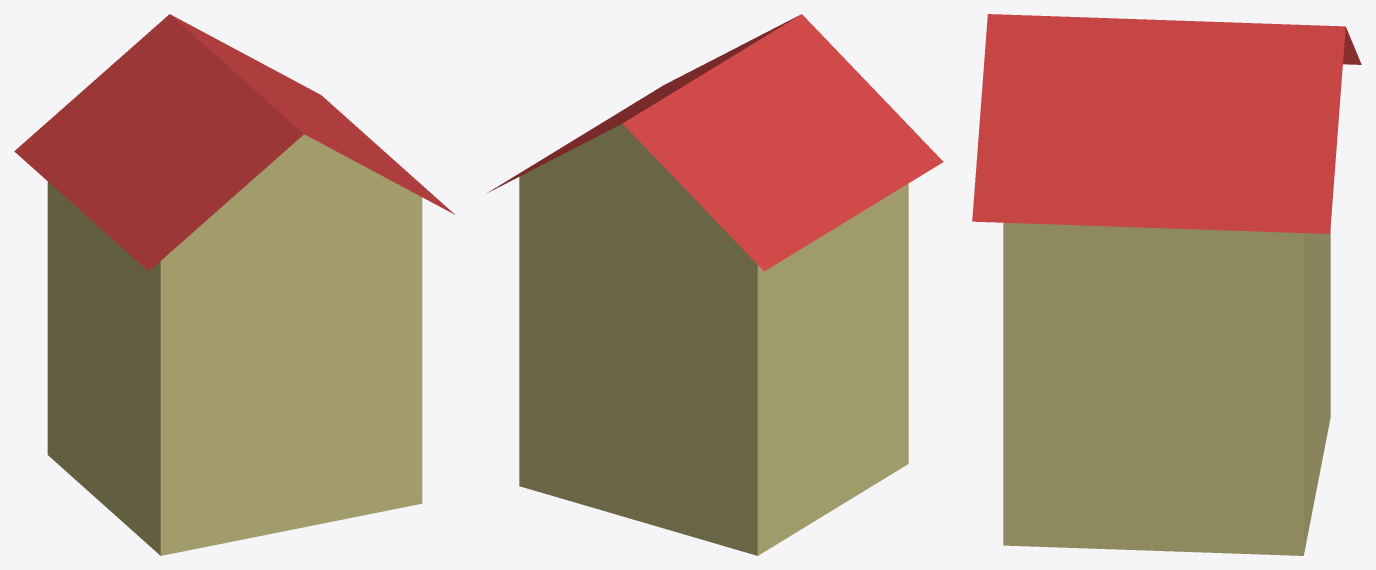
3 views of the same model, side by side, from view 1: azimuth 30°, elevation 25°; view 2: azimuth 150°, elevation 25°; view 3: azimuth 270°, elevation 25° (orthographic). The views are drawn at different scales.
Bounding box in the file's own units: 10.82 × 10.14 × 13.27.
